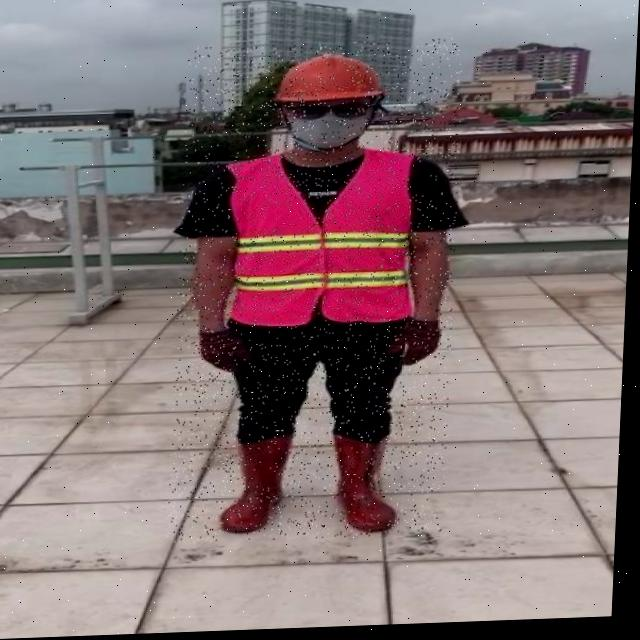Gloves: (389, 320, 444, 369), (201, 328, 256, 376)
Helmet: (272, 54, 387, 156)
Safety-Boot: (333, 431, 405, 536), (224, 434, 297, 535)
Safety-Vest: (220, 148, 423, 333)
